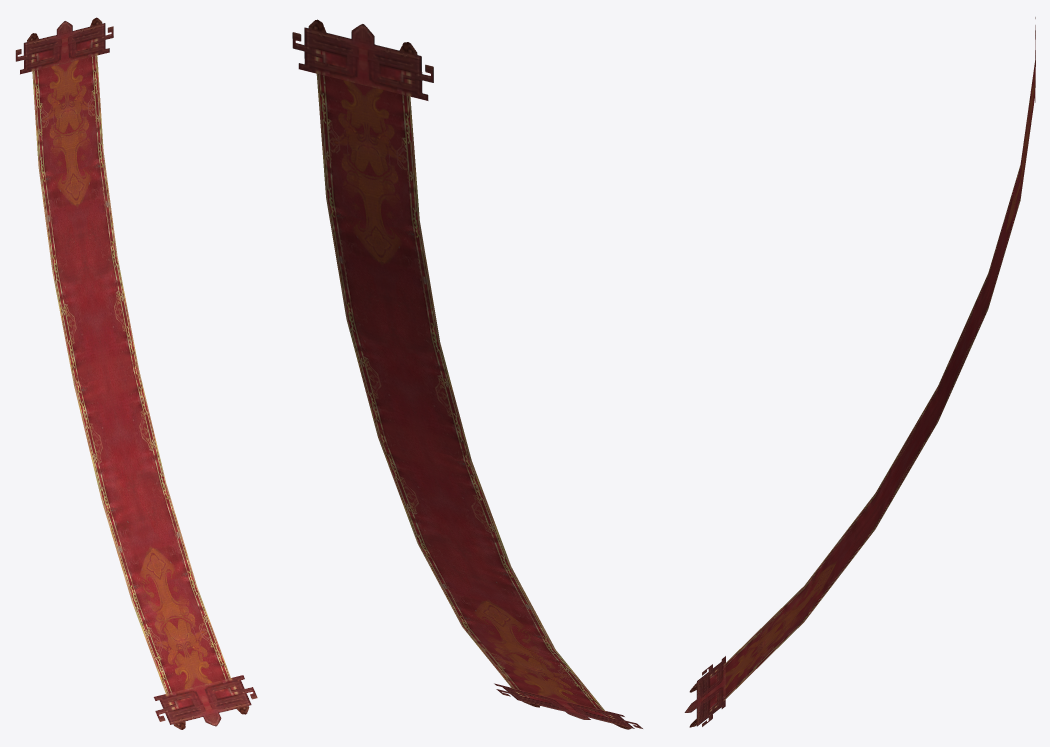
The model's file is S2_Build_XSC024.FBX.
3 views of the same model, side by side, from view 1: azimuth 30°, elevation 25°; view 2: azimuth 150°, elevation 25°; view 3: azimuth 270°, elevation 25° (orthographic). The views are drawn at different scales.
Visible parts, largest first — view 1: S2_Build_XSC024; view 2: S2_Build_XSC024; view 3: S2_Build_XSC024.
Part boxes in pixels (x1,y1,x2,y2): S2_Build_XSC024: [15, 17, 257, 729]; S2_Build_XSC024: [292, 19, 642, 729]; S2_Build_XSC024: [684, 17, 1035, 727].
Size of the model in its own units: 244 by 1384 by 644.
